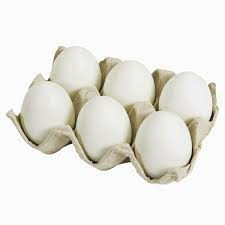eggs: (141, 110, 193, 178), (21, 76, 72, 139), (161, 65, 214, 125), (46, 39, 97, 96), (105, 57, 156, 107), (84, 100, 126, 154)
